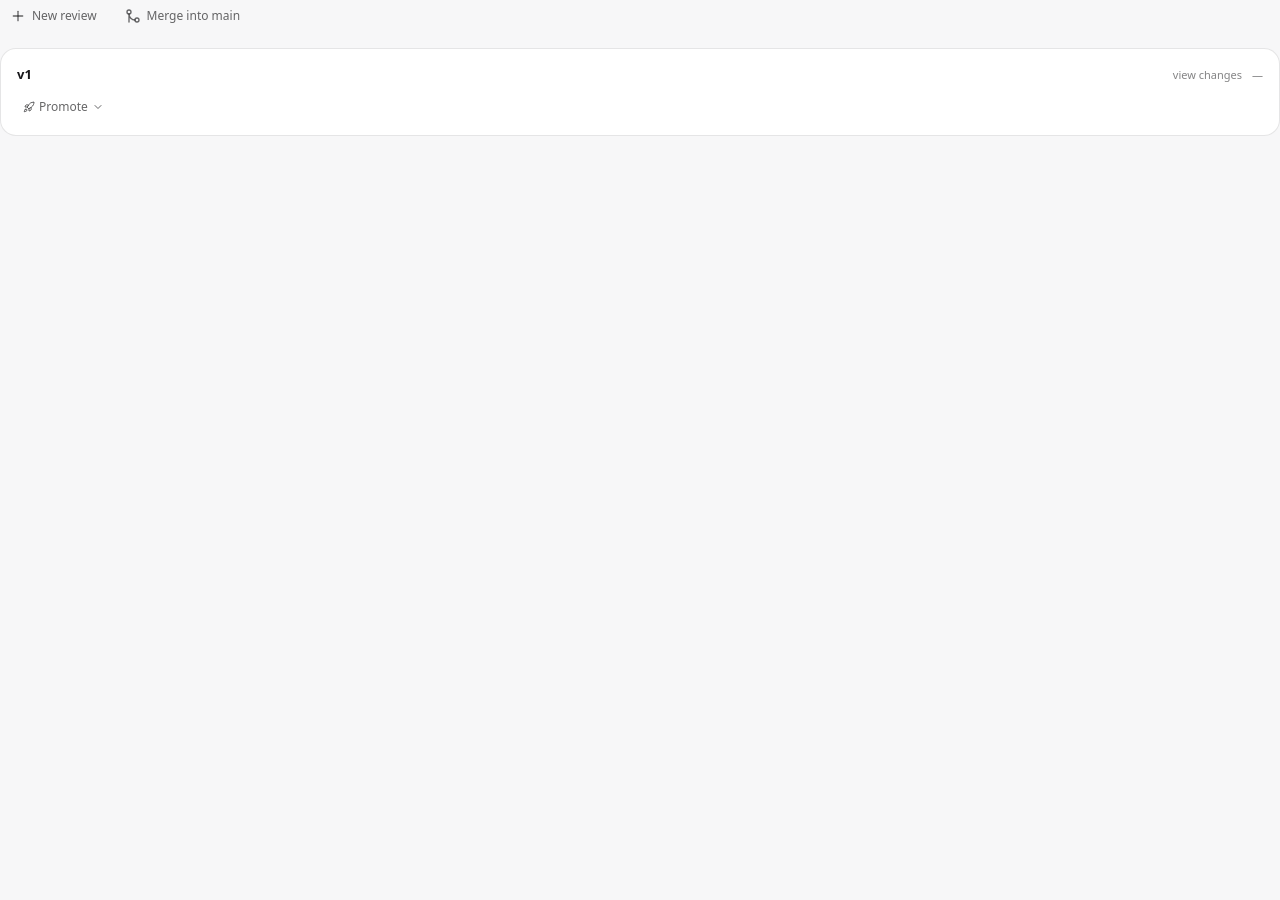
Test: ActivityFeed protected merges › keeps a protected branch after merging it into main, and says so
Click the button "Merge into main".
click(182, 16)  # box [115,0,250,32]
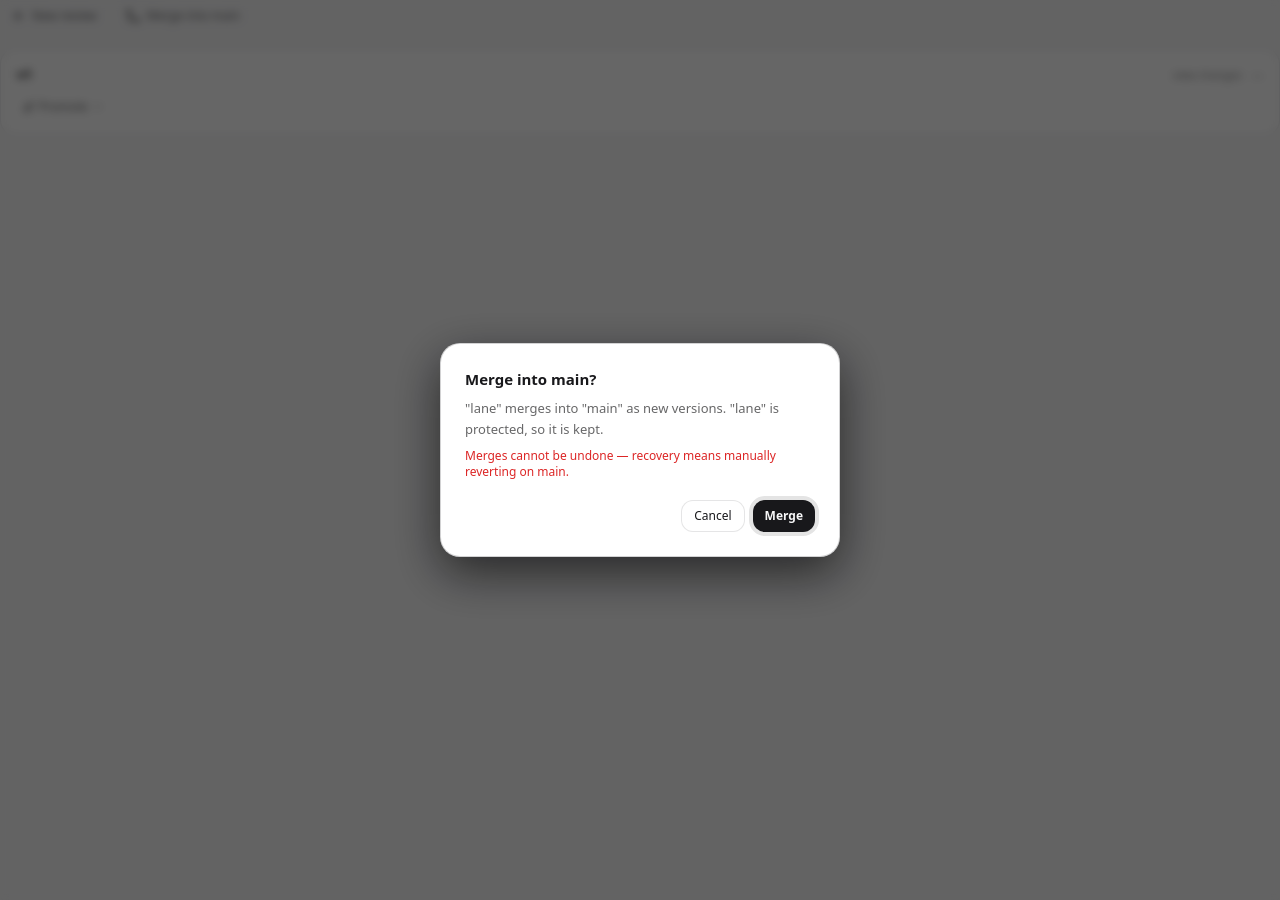
Check: the dialog does not show "is deleted", box [440,343,840,557]
Check: the dialog shows "\"lane\" is protected, so it is kept.", box [465,399,779,438]
